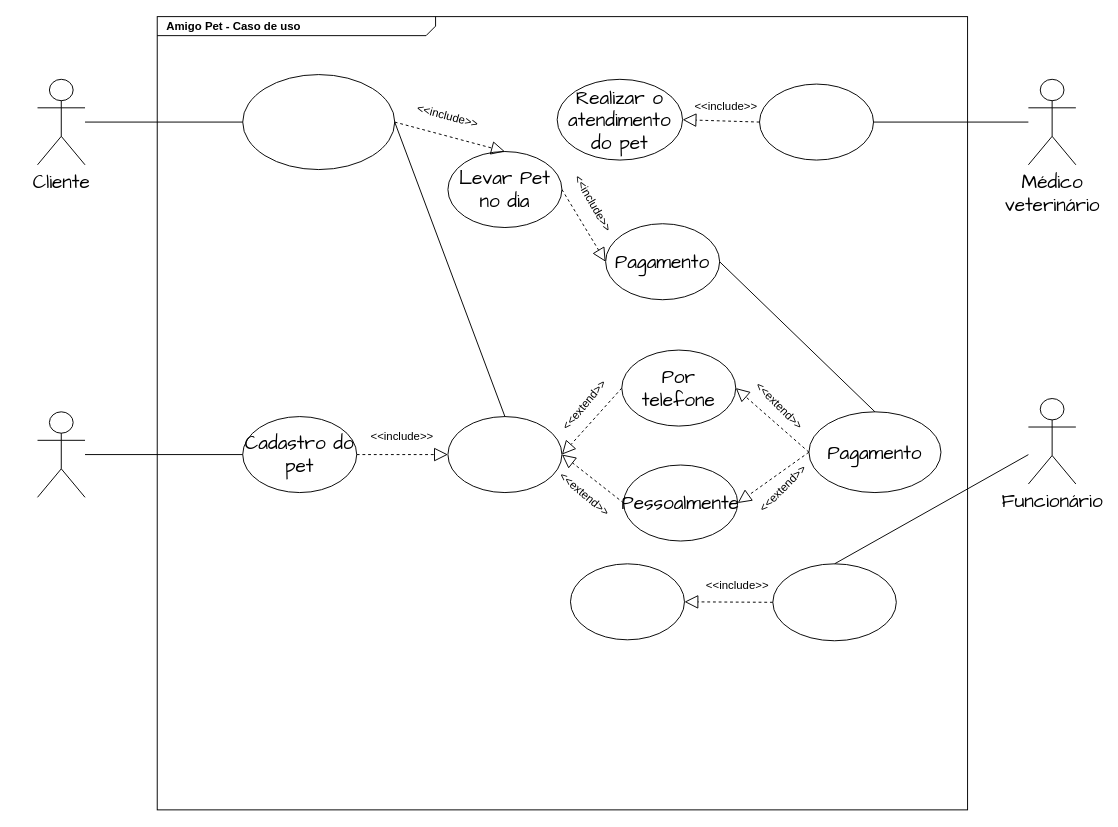
This 1118x827 diagram has some shape labels left out. The shapes that lost their labels are listed below. From the top down, each one's centre as x and y in pixels, then its label:
At (x=318, y=122): "Cadastro do pet pessoalmente".
At (x=816, y=121): "Consulta do pet".
At (x=61, y=454): "Recepção".
At (x=504, y=454): "Agendamento".
At (x=627, y=601): "Fazer o serviço solicitado".
At (x=834, y=602): "Reconhecer o Pet".
